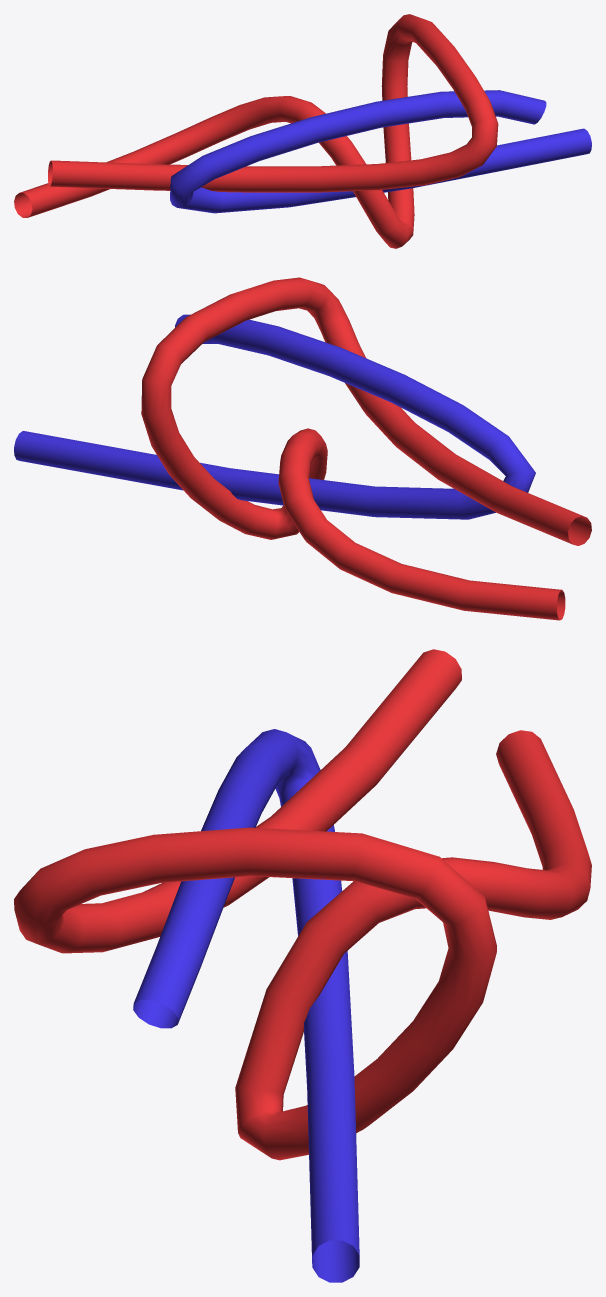
Rendered from SquareKnotState6.dae.
3 renders of one model, top to bottom at view 1: azimuth 30°, elevation 25°; view 2: azimuth 150°, elevation 25°; view 3: azimuth 270°, elevation 25°, orthographic. The views are drawn at different scales.
Visible parts, largest first — view 1: BezierCurve.003, BezierCurve.002; view 2: BezierCurve.003, BezierCurve.002; view 3: BezierCurve.003, BezierCurve.002.
Part boxes in pixels (<box>): BezierCurve.003: <box>14,14,498,248</box>; BezierCurve.002: <box>170,90,591,213</box>; BezierCurve.003: <box>141,277,591,620</box>; BezierCurve.002: <box>14,314,535,519</box>; BezierCurve.003: <box>14,649,591,1160</box>; BezierCurve.002: <box>133,729,359,1282</box>.
Bounding box in the file's own units: 0.4493 × 0.235 × 0.1624.
